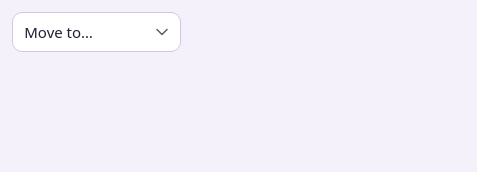
Test: taking a candidate off a job › says why when it is kept
Select "Take off this job…" in the dropdown named "Move Siti Aminah on Auditor" at (97, 32), box [12,12,181,52]
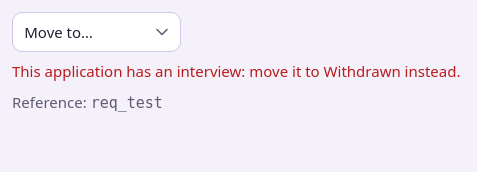
Expected: the text "move it to Withdrawn instead" is shown, [12,61,460,81]
